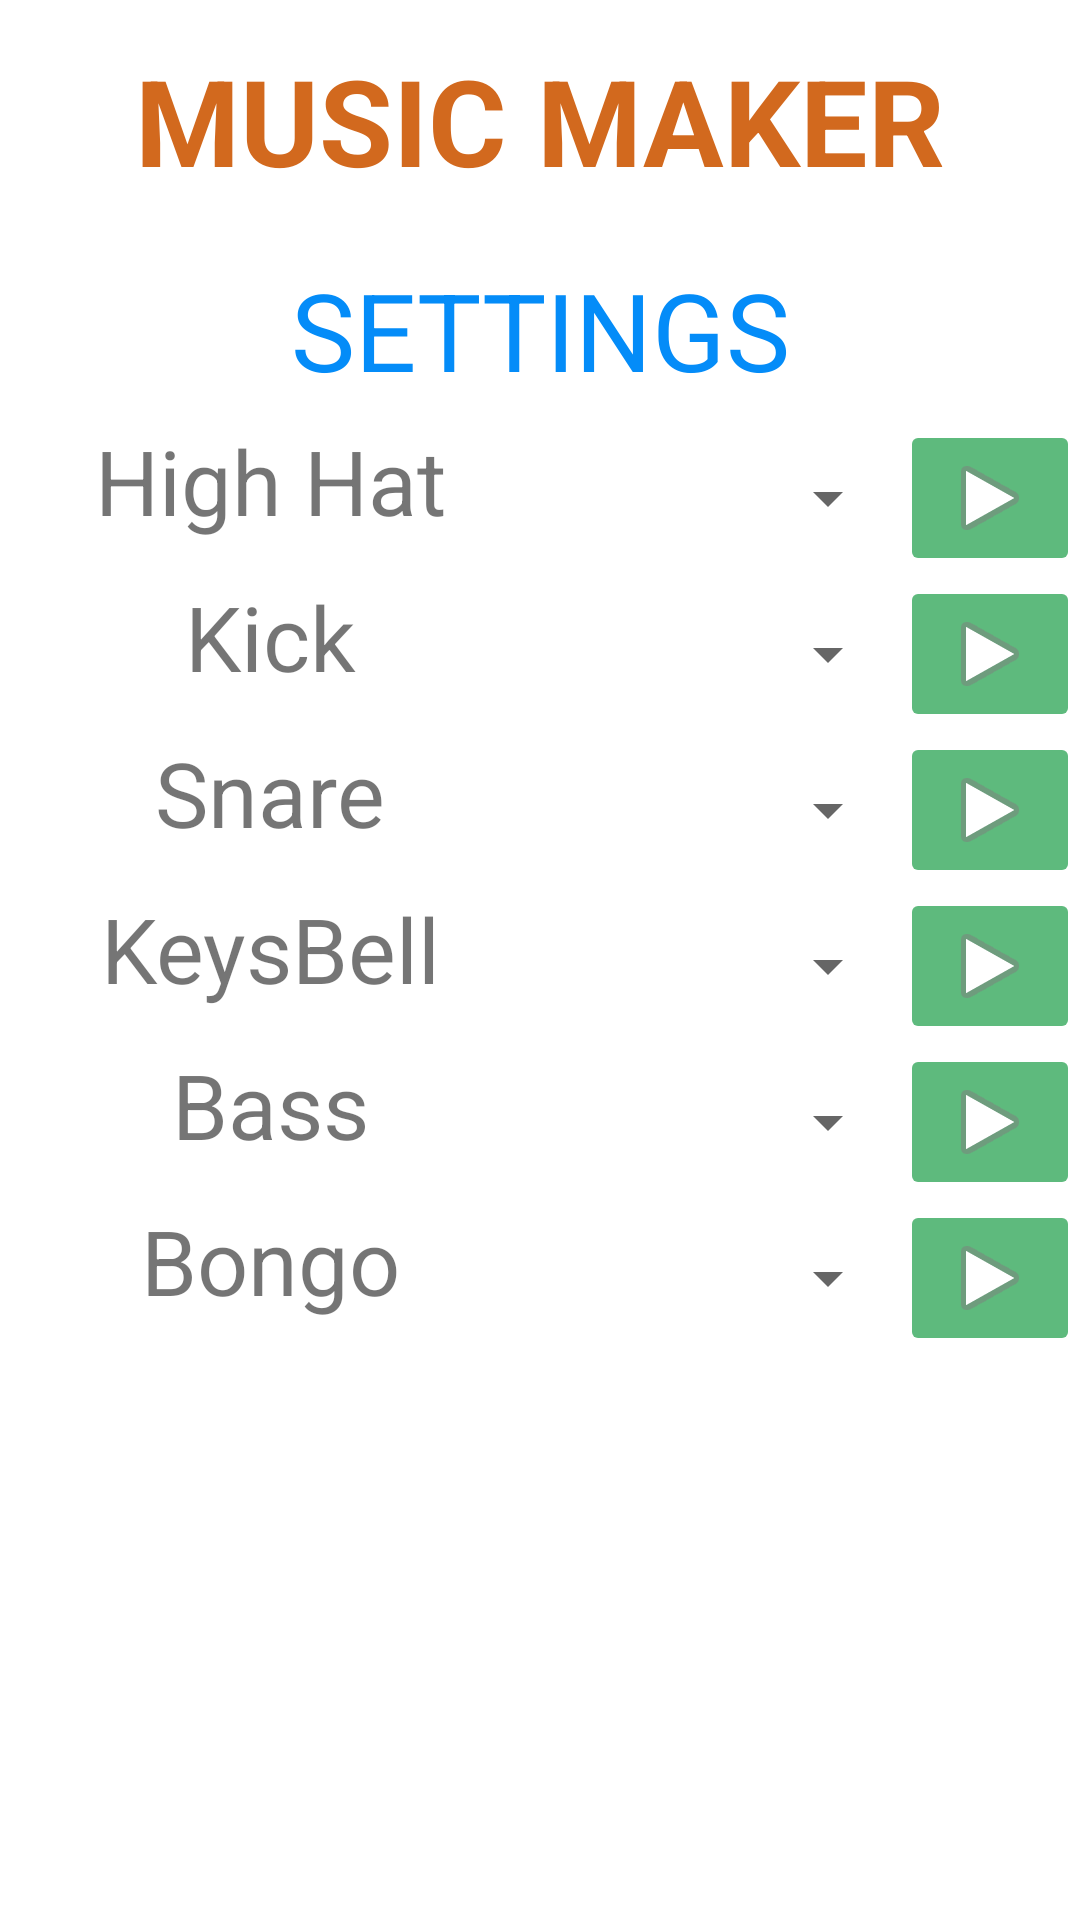

Named icons in this screenshot (1080px x 1920px) and their bounding boxes, Rect(x1, y1, x2, y2):
PLAY: Rect(912, 438, 1068, 558), Rect(912, 594, 1068, 714), Rect(912, 750, 1068, 870), Rect(912, 906, 1068, 1026), Rect(912, 1062, 1068, 1182), Rect(912, 1218, 1068, 1338)
